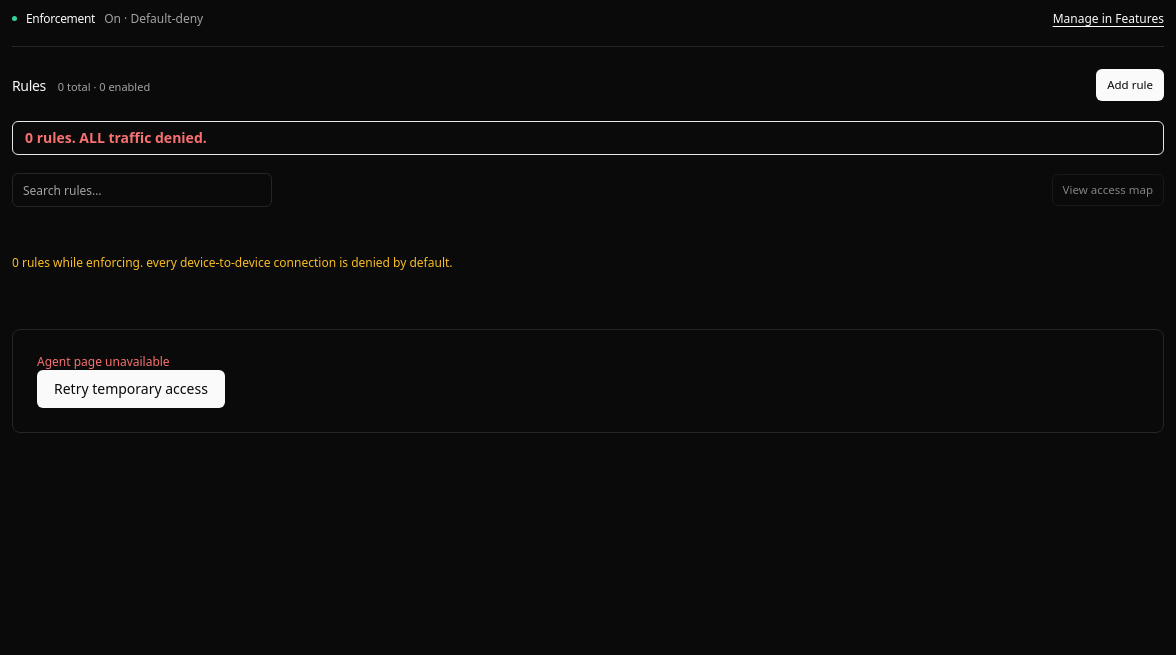
Test: released F10 JIT agent access workflow › keeps a retry visible when the second agent page fails
The image size is (1176, 655).
Check: the button "Request access" is not shown
Step 1. Click the button "Retry temporary access" → (131, 389), box x1=37 y1=370 x2=225 y2=408
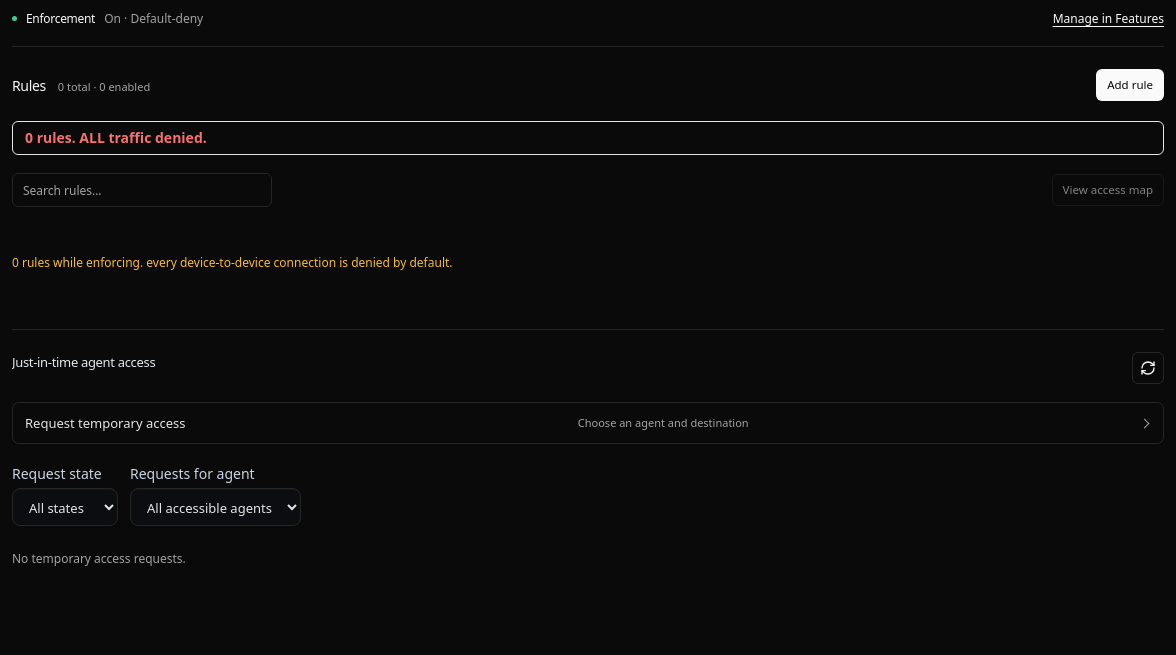
Step 2. Click the heading "Request temporary access" → (105, 423), box x1=25 y1=414 x2=749 y2=432
(page scrolled)
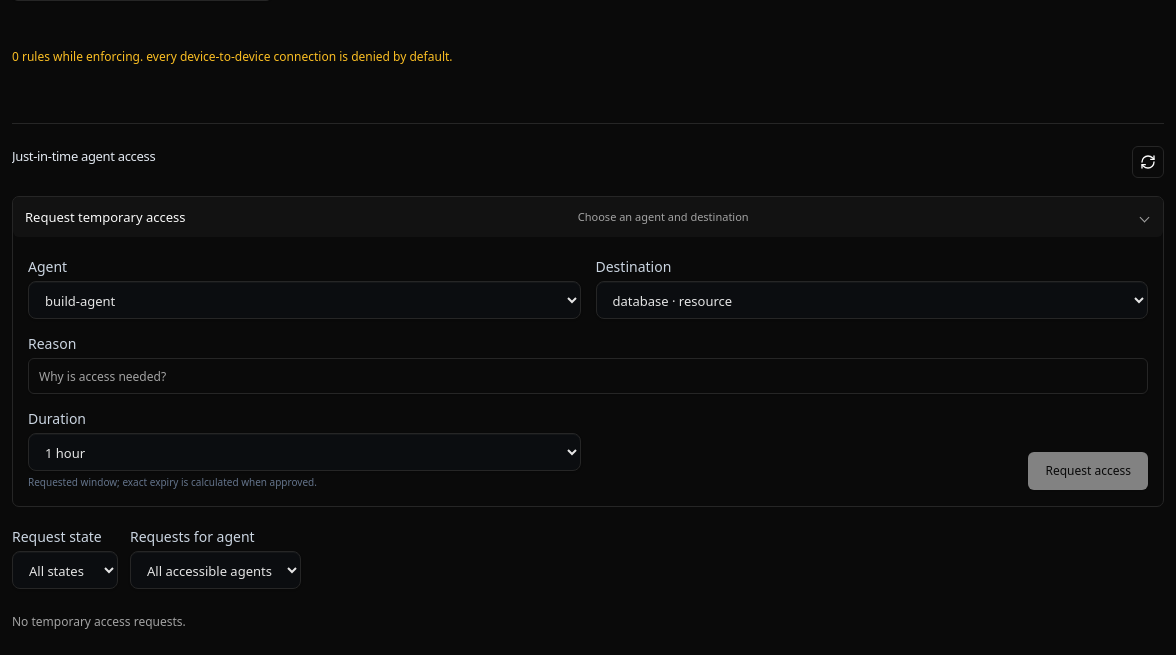
Check: the button "Request access" is shown, box x1=1028 y1=452 x2=1148 y2=490
